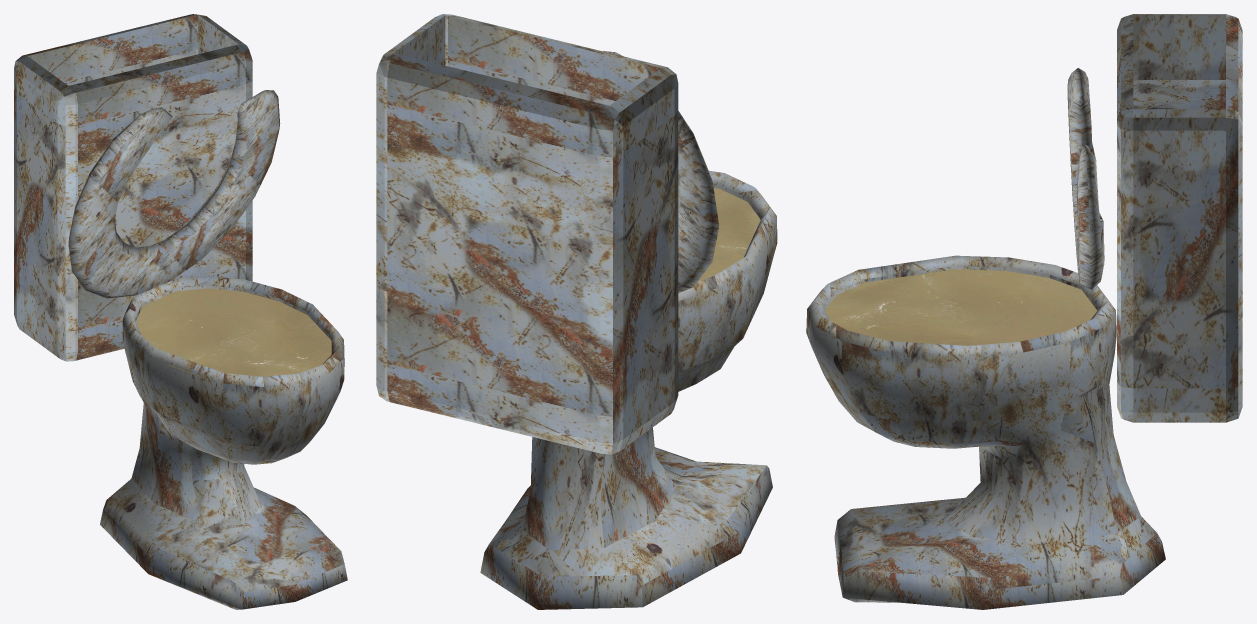
The model's file is Toilet.FBX.
3 renders of one model, left to right at view 1: azimuth 30°, elevation 25°; view 2: azimuth 150°, elevation 25°; view 3: azimuth 270°, elevation 25°, orthographic. The views are drawn at different scales.
Parts seen in each view (by area): view 1: Sphere01, Cylinder01; view 2: Sphere01, Cylinder01; view 3: Sphere01, Cylinder01.
Part boxes in pixels (<box>): Sphere01: <box>14,14,347,609</box>; Cylinder01: <box>136,288,331,377</box>; Sphere01: <box>376,14,777,609</box>; Cylinder01: <box>698,188,770,281</box>; Sphere01: <box>806,14,1242,609</box>; Cylinder01: <box>825,269,1097,345</box>.
Size of the model in its own units: 1.46 by 2.89 by 2.25.
2 materials, 2 textured.
